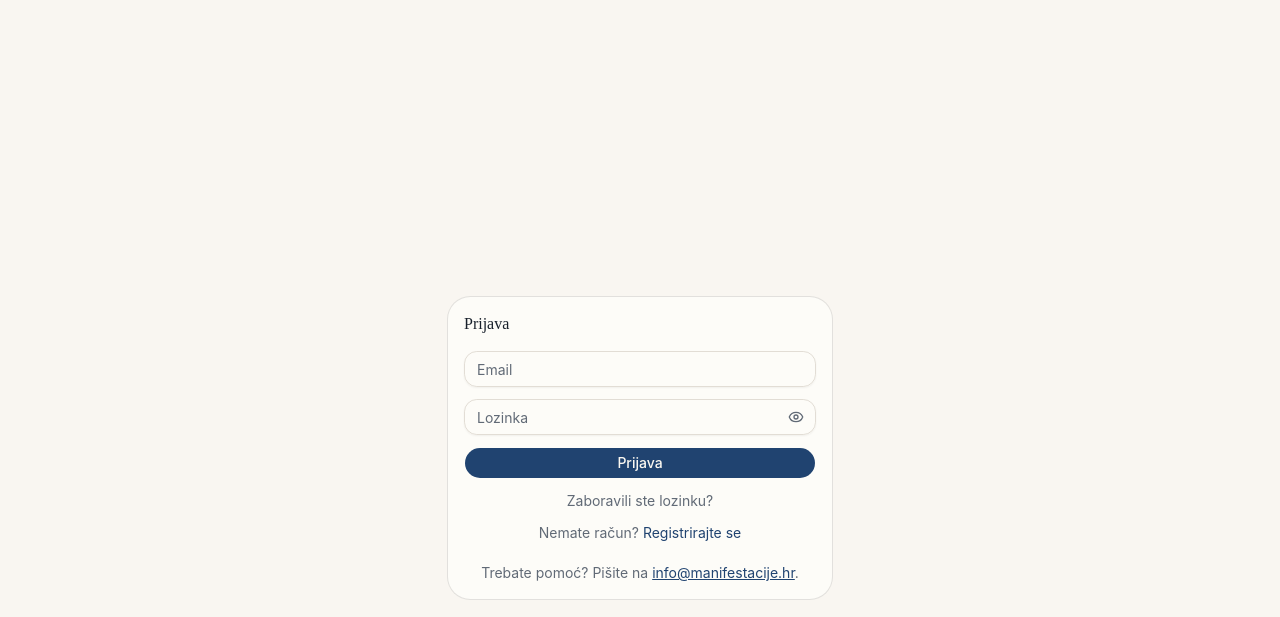
it: persistent organizer layout session lifecycle › successful login navigates and unlocks the mounted layout without a reload
Type "organizer@example.test" into the field with placeholder "Email".
click(640, 369); type("organizer@example.test")  # box [464,351,816,387]
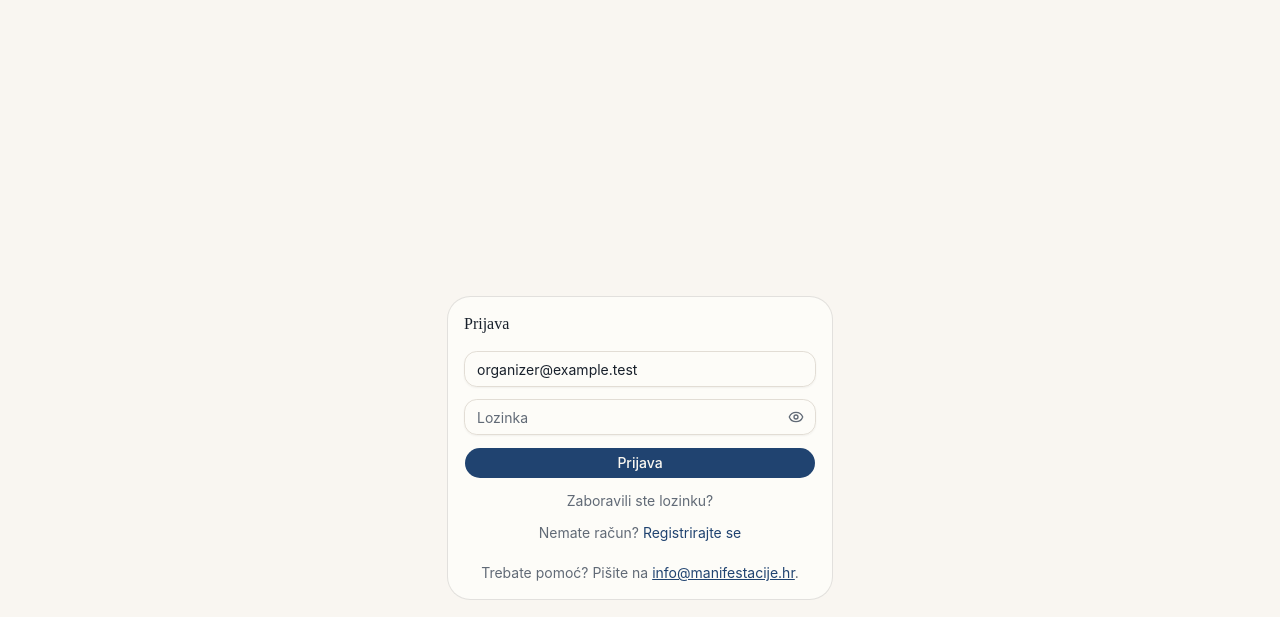
Type "Synthetic-password-42!" into the password field with placeholder "Lozinka".
click(640, 417); type("Synthetic-password-42!")  # box [464,399,816,435]
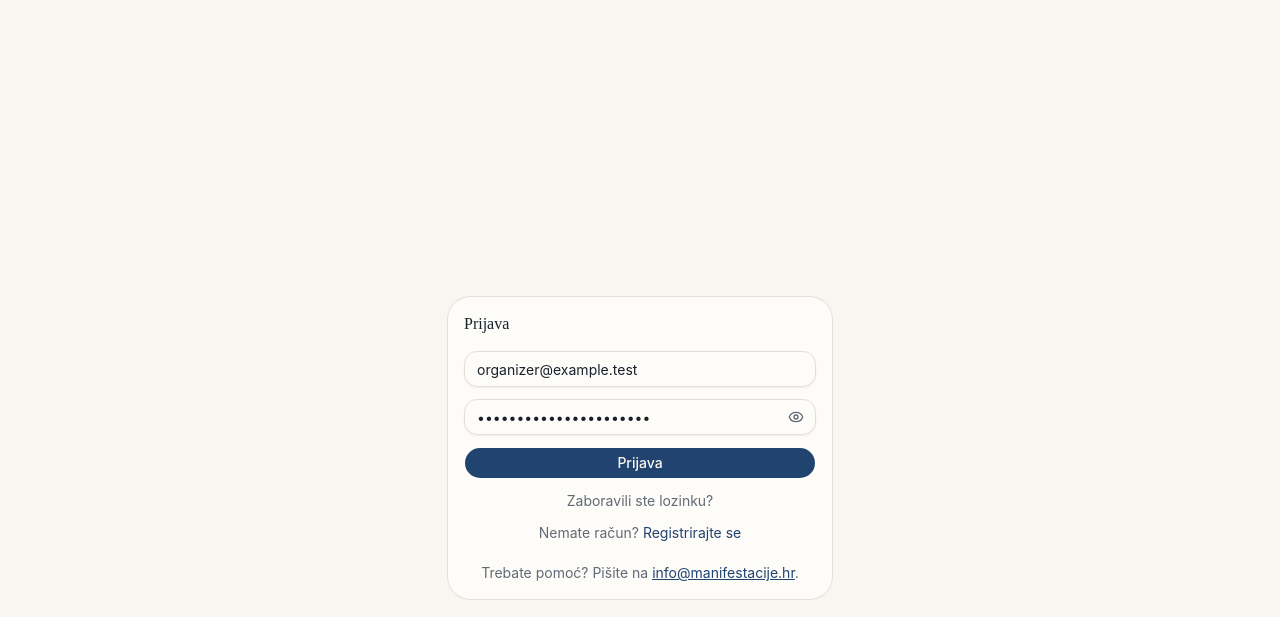
Submit the form, box [464,351,816,543]
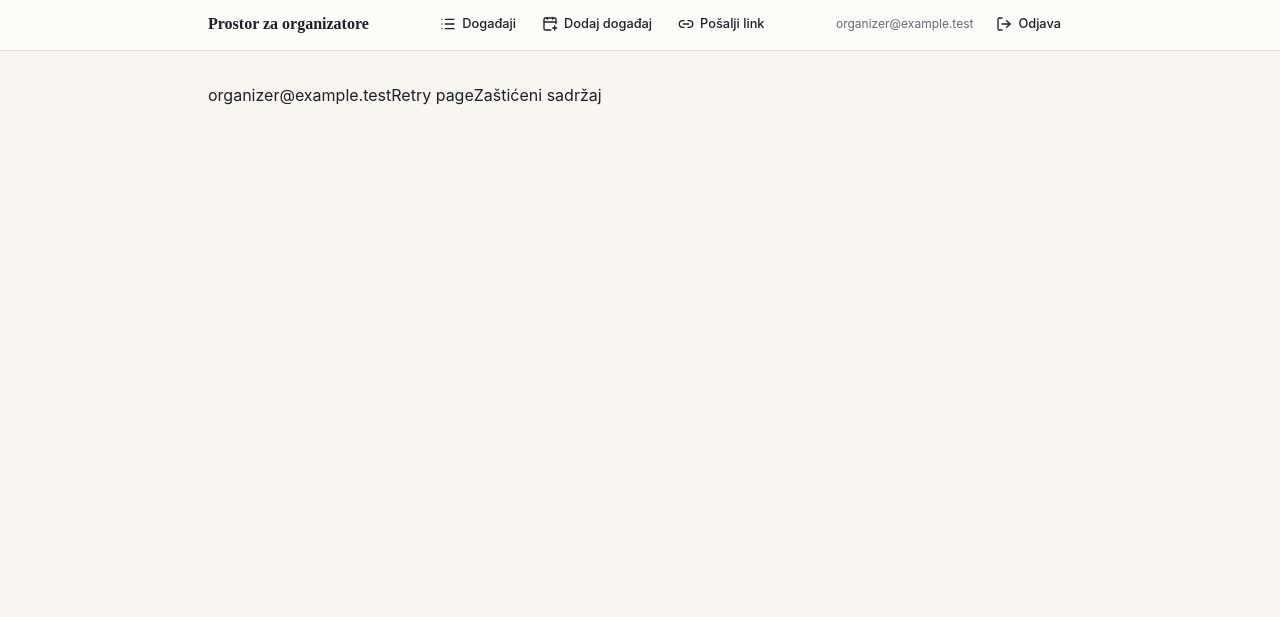
Expected: the text "Zaštićeni sadržaj" is shown, [474,85,602,105]
